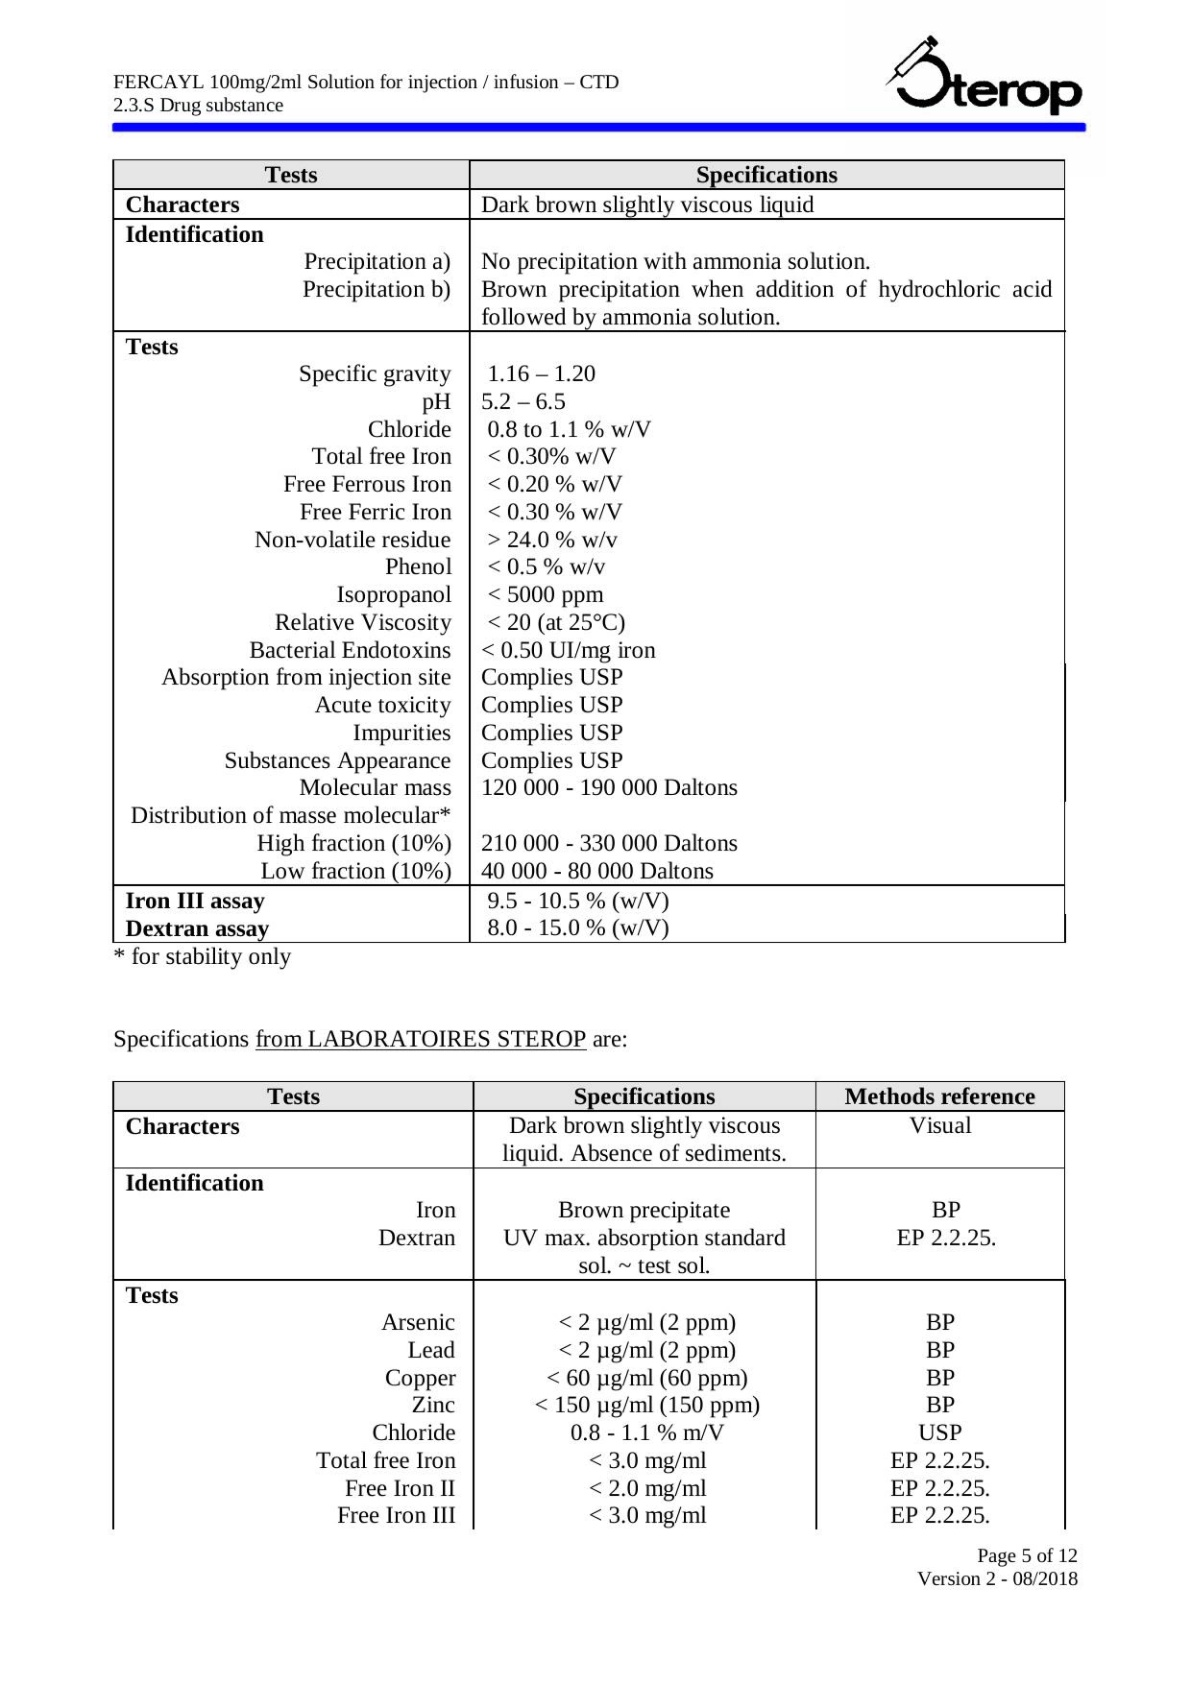full_lined: (110, 157, 1066, 945)
partial_lined: (112, 1080, 1067, 1532)
